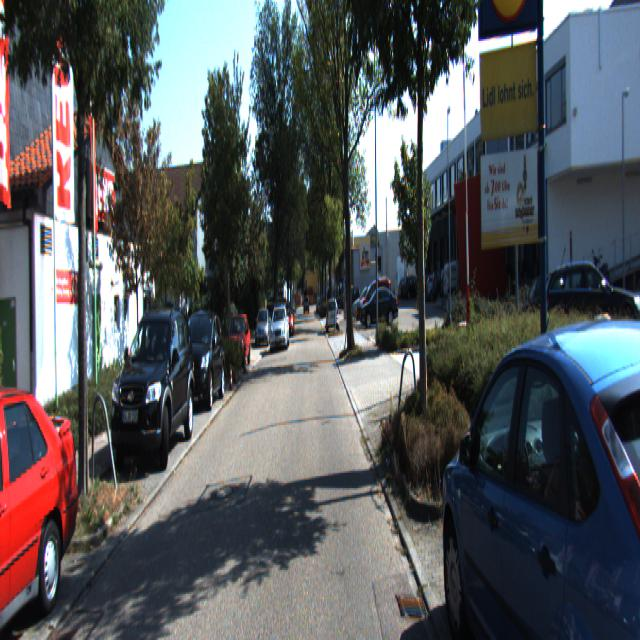Car: (442, 307, 640, 638), (0, 376, 83, 638), (110, 305, 198, 478), (175, 308, 226, 414), (443, 258, 481, 306), (223, 315, 252, 374), (360, 284, 399, 325), (269, 306, 290, 352), (326, 295, 339, 333)
